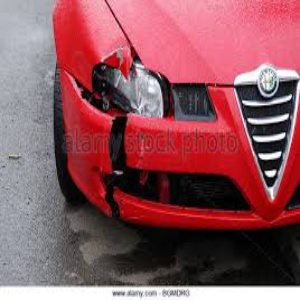bumper: (79, 169, 171, 222)
head_lights: (85, 48, 173, 121)
